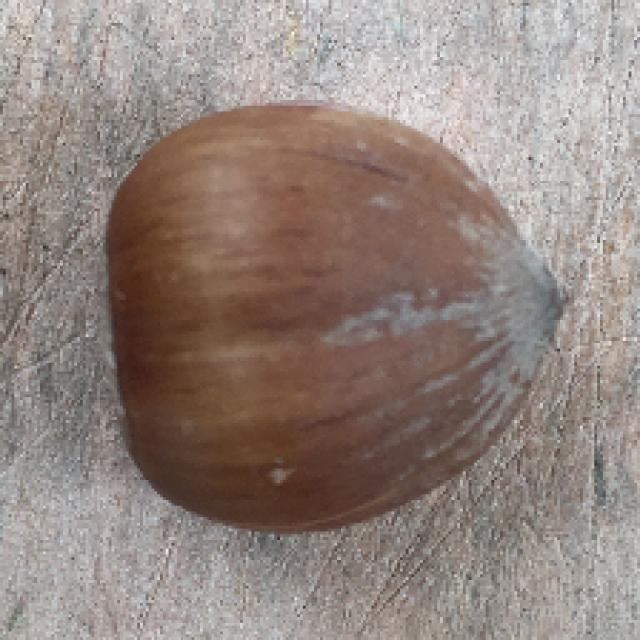damagedHazelnut: (96, 96, 588, 534)
